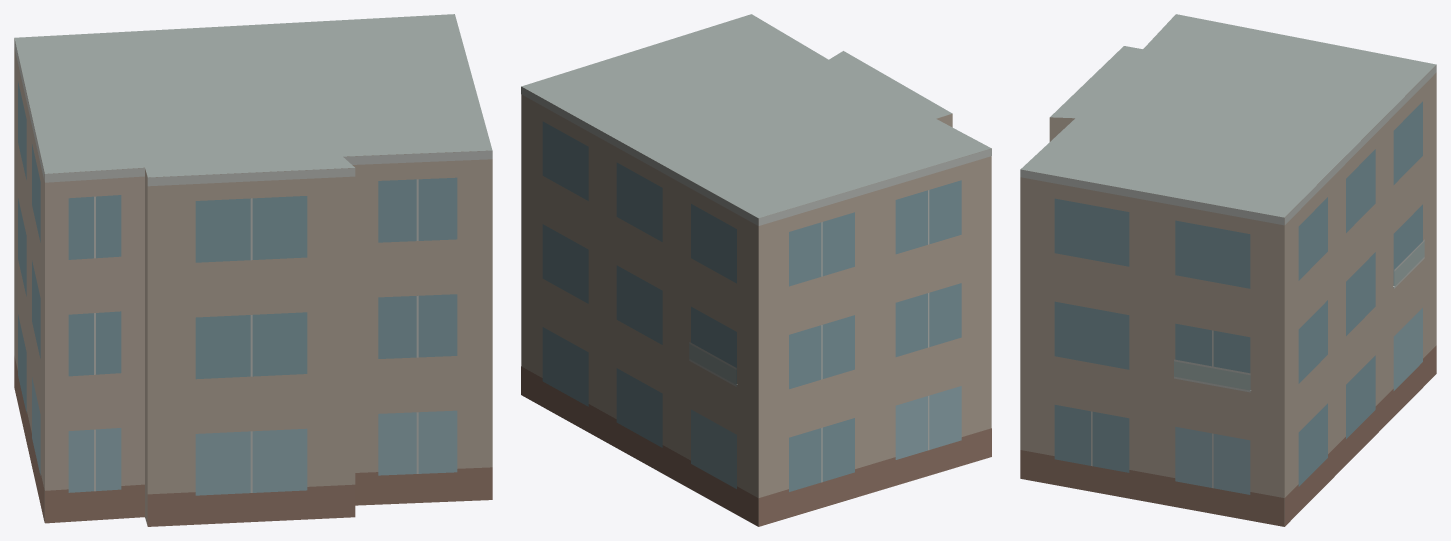
The model's file is survey-upis-32527617.glb.
3 views of the same model, side by side, from view 1: azimuth 30°, elevation 25°; view 2: azimuth 150°, elevation 25°; view 3: azimuth 270°, elevation 25° (orthographic). The views are drawn at different scales.
Parts seen in each view (by area): view 1: survey-upis-32527617.tmp; view 2: survey-upis-32527617.tmp; view 3: survey-upis-32527617.tmp.
Part boxes in pixels (left/top/right/bottom): survey-upis-32527617.tmp: left=14, top=14, right=492, bottom=526; survey-upis-32527617.tmp: left=521, top=14, right=991, bottom=526; survey-upis-32527617.tmp: left=1020, top=14, right=1436, bottom=526.
Bounding box in the file's own units: 13.71 × 9.7 × 11.84.
